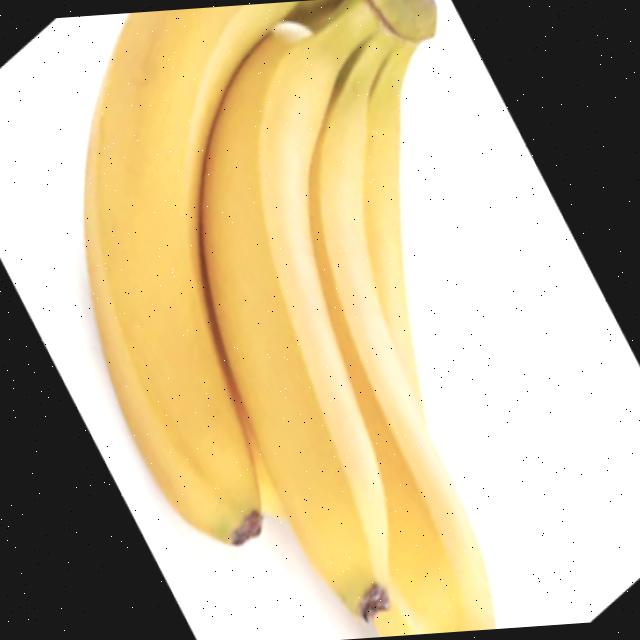banana: (46, 0, 551, 640)
